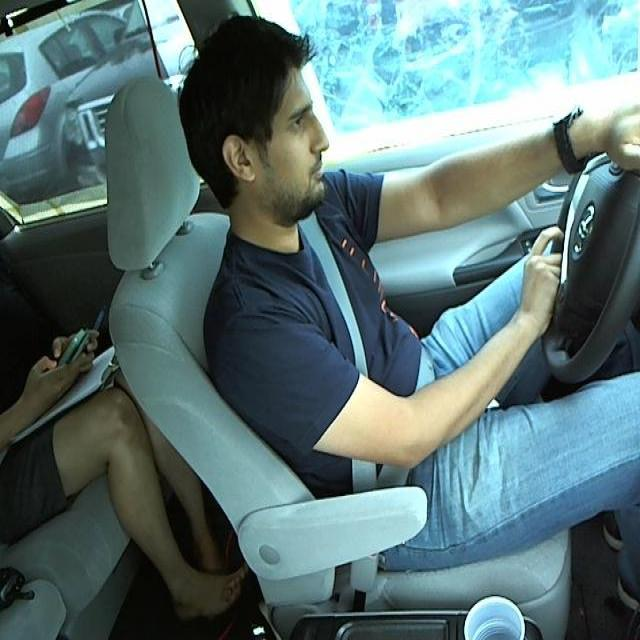without_using_phone: (180, 17, 330, 246)
